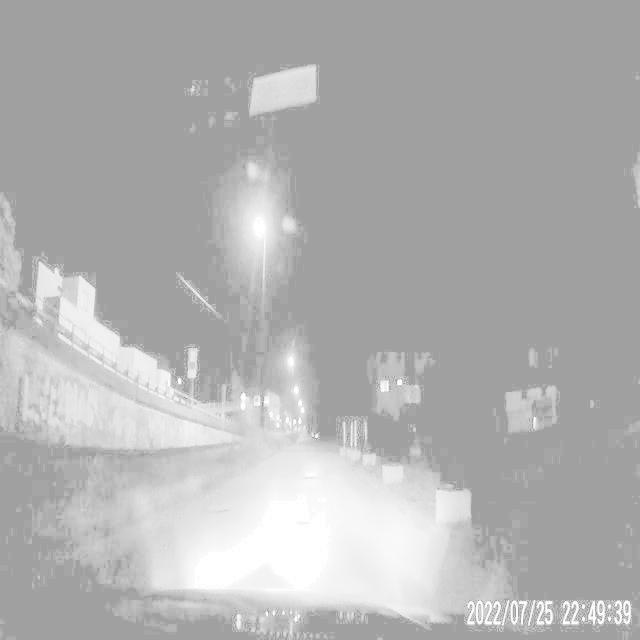Pothole: (205, 497, 235, 523), (290, 512, 319, 532), (297, 466, 324, 486)
